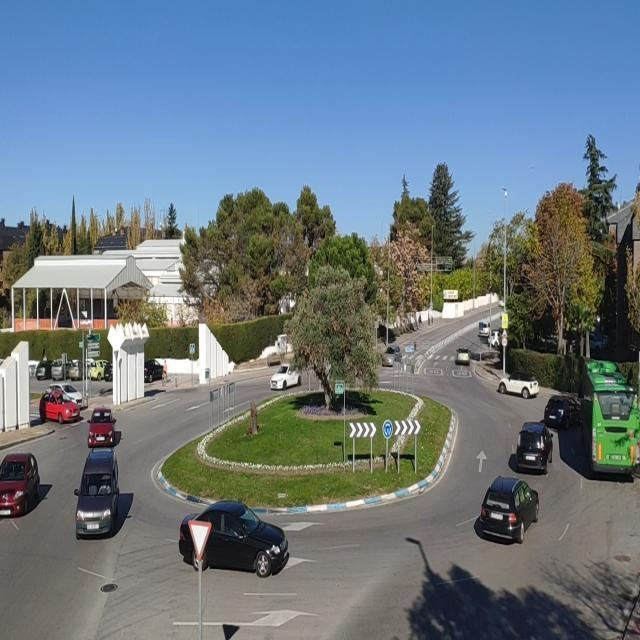Bus: (572, 362, 640, 480)
Car: (175, 498, 296, 582), (473, 482, 535, 550), (73, 450, 122, 534), (0, 444, 40, 520), (510, 423, 564, 475), (540, 390, 574, 432), (35, 396, 86, 424), (85, 406, 120, 446), (63, 375, 96, 415), (497, 373, 540, 403), (272, 361, 308, 392), (455, 343, 481, 374)
